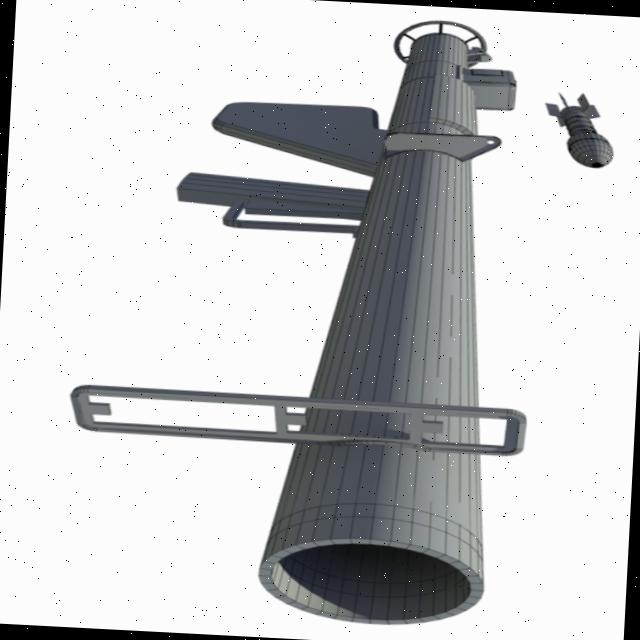Bazooka: (158, 8, 550, 632)
